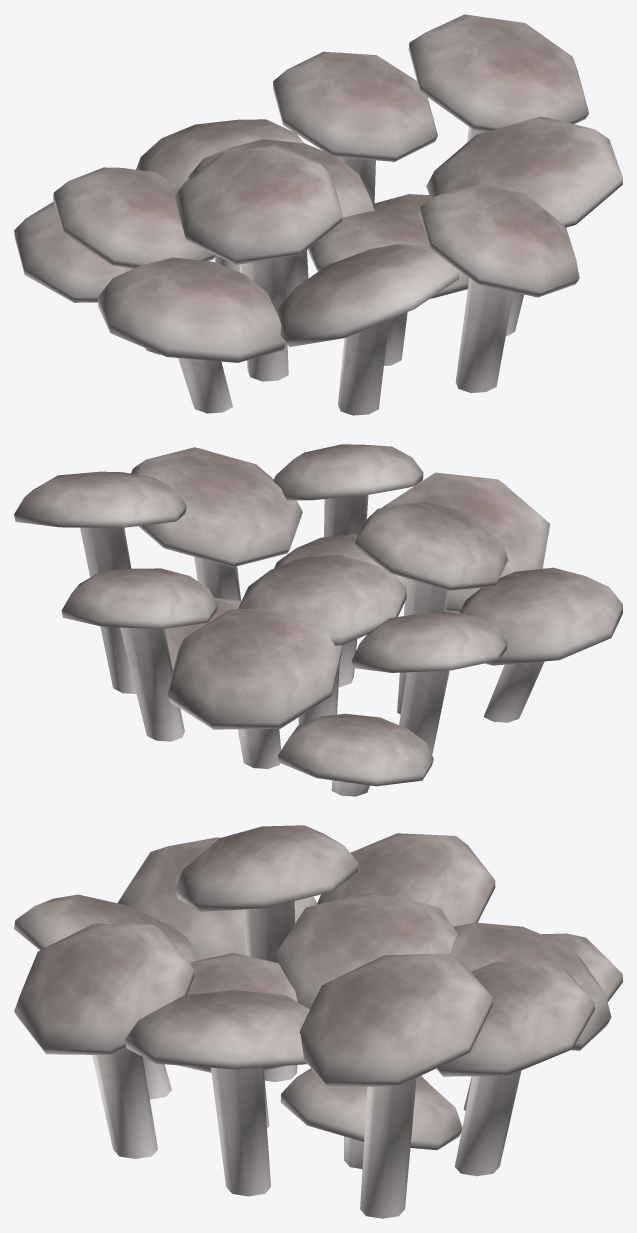
Rendered from Mushroom1.fbx.
3 renders of one model, top to bottom at view 1: azimuth 30°, elevation 25°; view 2: azimuth 150°, elevation 25°; view 3: azimuth 270°, elevation 25°, orthographic. The views are drawn at different scales.
Visible parts, largest first — view 1: Mushroom1; view 2: Mushroom1; view 3: Mushroom1.
Boxes of the visible parts, x1=… form: Mushroom1: x1=14, y1=14, x2=622, y2=415; Mushroom1: x1=14, y1=444, x2=622, y2=796; Mushroom1: x1=14, y1=825, x2=622, y2=1218.
Size of the model in its own units: 0.272 by 0.109 by 0.2388.
